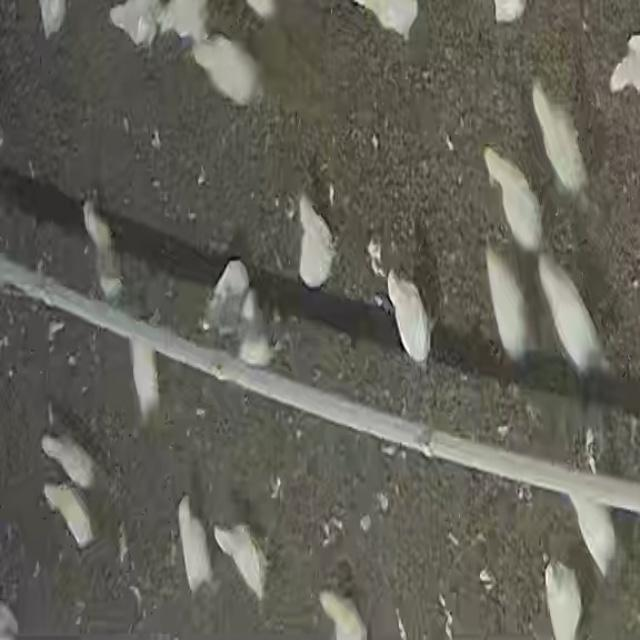chicken: (534, 250, 606, 384), (530, 80, 586, 198), (482, 147, 542, 255), (483, 241, 533, 366), (387, 269, 437, 372), (192, 35, 260, 107), (570, 495, 619, 586), (214, 522, 267, 602), (82, 196, 121, 302), (296, 194, 336, 294), (207, 259, 253, 343), (175, 492, 212, 595), (42, 482, 97, 550), (41, 432, 98, 491), (544, 561, 584, 637), (236, 287, 273, 368), (129, 336, 162, 426), (318, 589, 368, 638), (349, 1, 419, 36), (161, 1, 215, 46), (109, 0, 158, 46), (610, 35, 640, 96), (39, 0, 67, 38), (493, 0, 526, 23)
